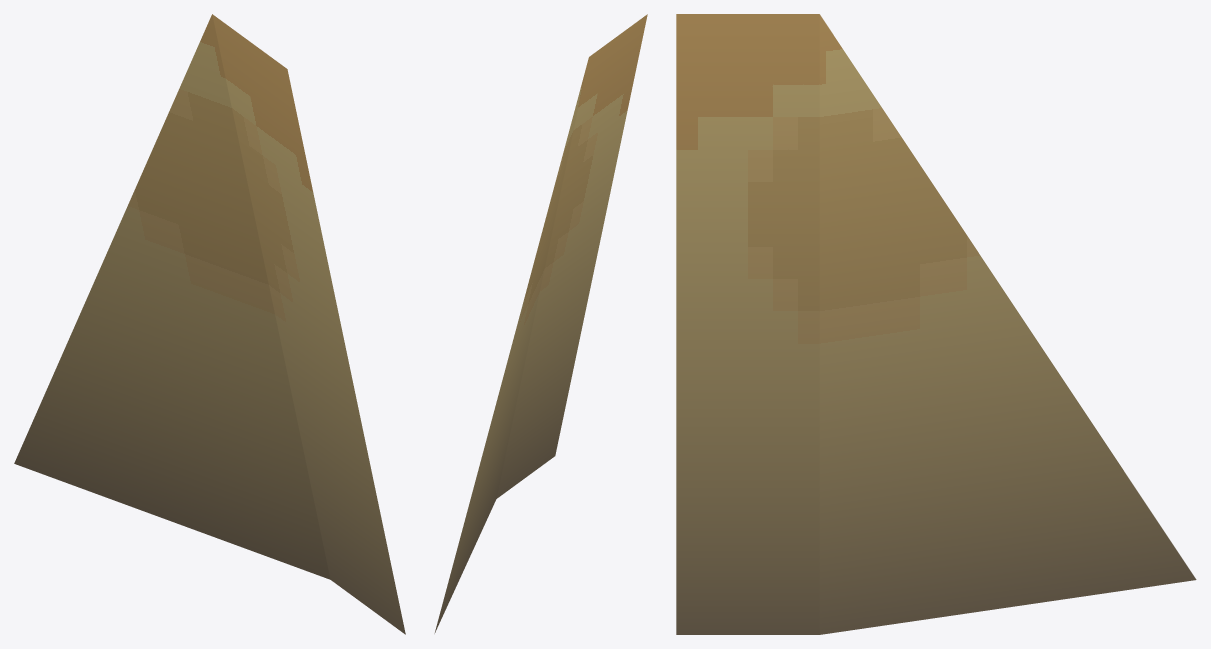
3 views of the same model, side by side, from view 1: azimuth 30°, elevation 25°; view 2: azimuth 150°, elevation 25°; view 3: azimuth 270°, elevation 25° (orthographic). The views are drawn at different scales.
Bounding box in the file's own units: 0.25 × 1.2 × 1.
Materials: 1 (1 with a texture image).
